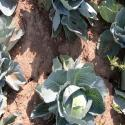cabbage: (63, 83, 92, 120)
